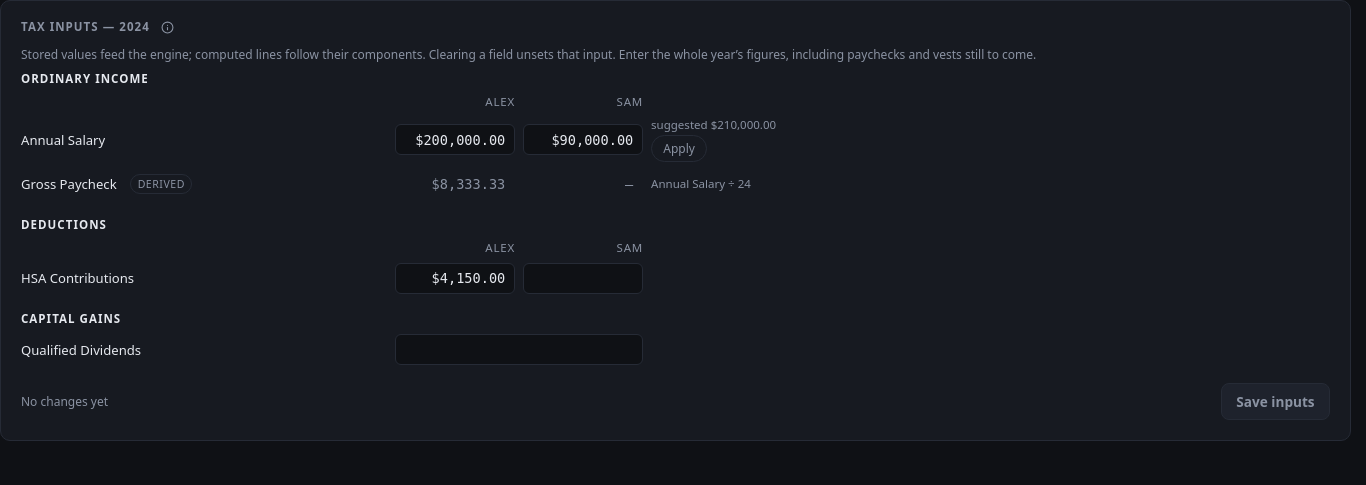
Test: InputsForm — feedback beside Save › focuses the first invalid cell in its actual person column and reports validation in the sticky bar
Replace the text in the field named "Annual Salary — Sam" with "bad number" at {"x": 583, "y": 140}, box [523, 124, 643, 155]
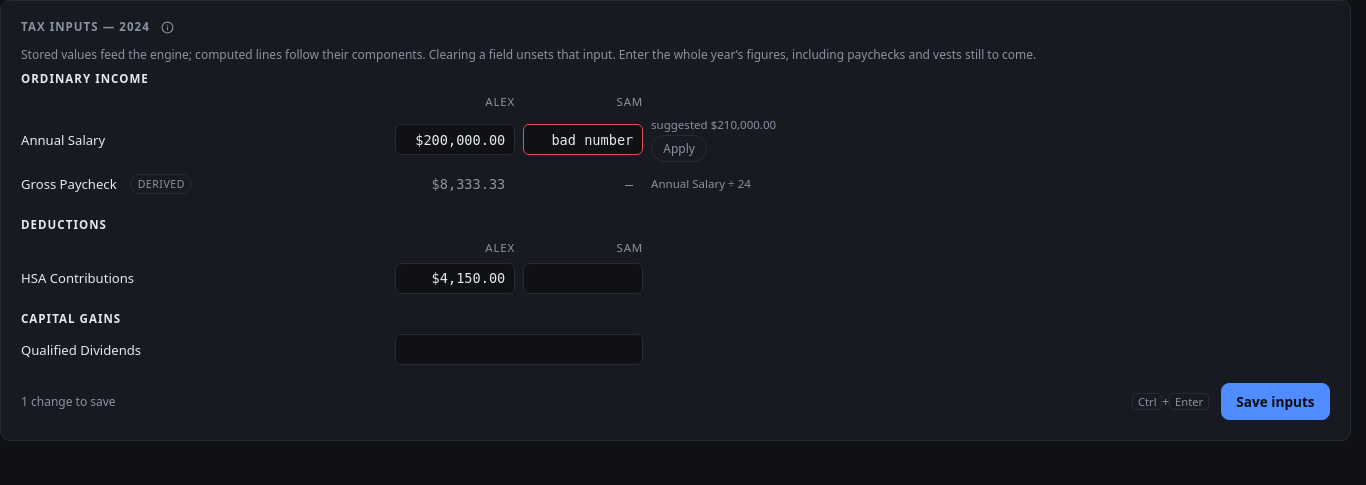
Click the button "Save inputs" at {"x": 1275, "y": 401}, box [1221, 383, 1330, 420]
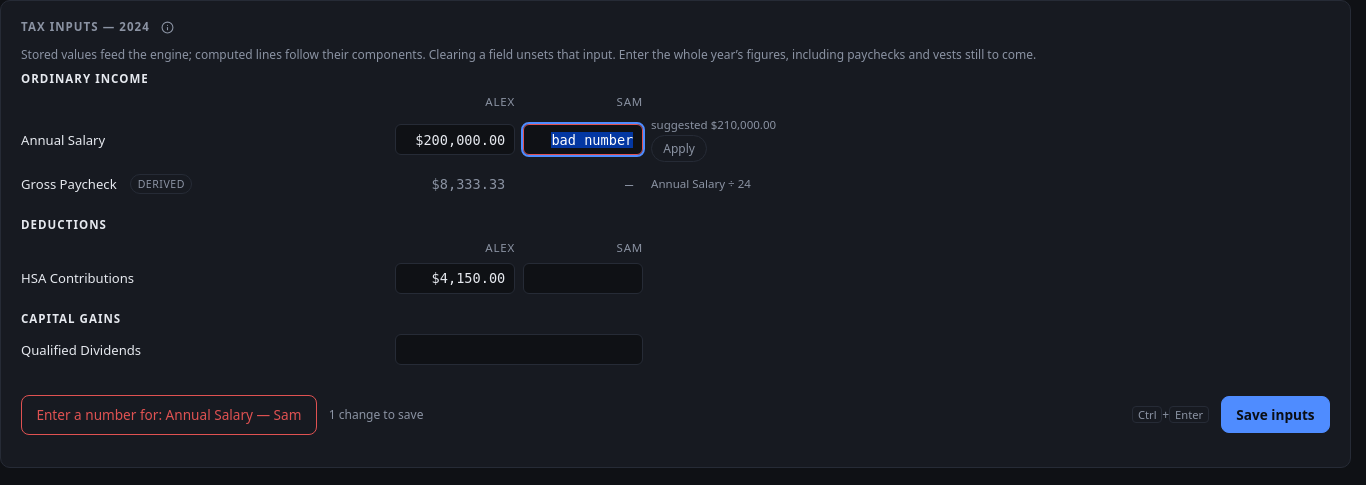
Now the message shows "Annual Salary", box [36, 405, 301, 424]
Replace the text in the field named "Annual Salary — Sam" with "95000" at {"x": 583, "y": 140}, box [523, 124, 643, 155]
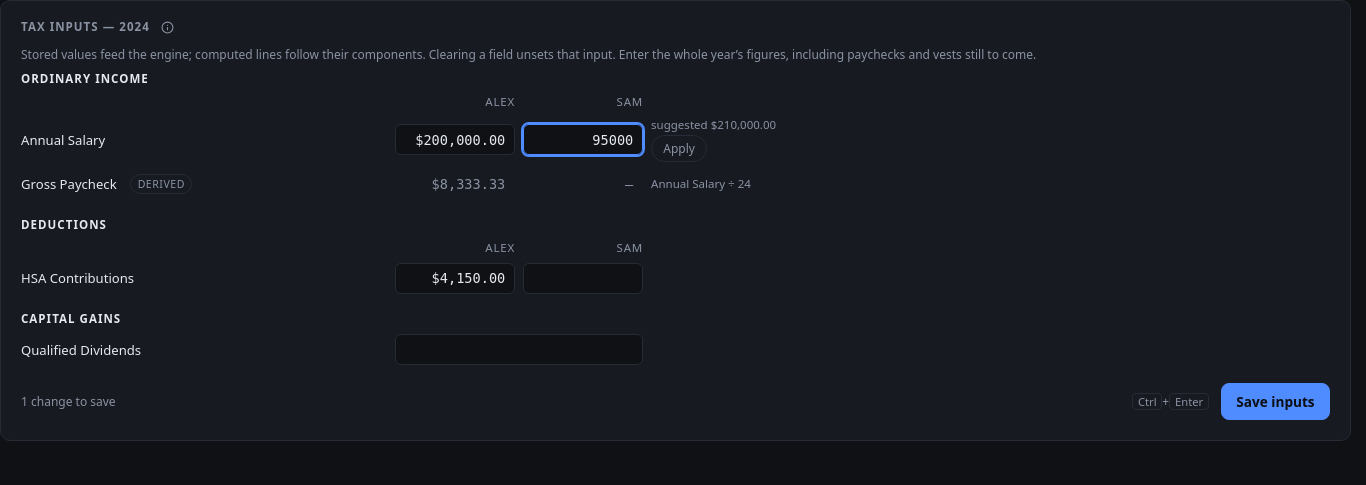
Now the message "Enter a number for: Annual Salary — Sam" is gone
